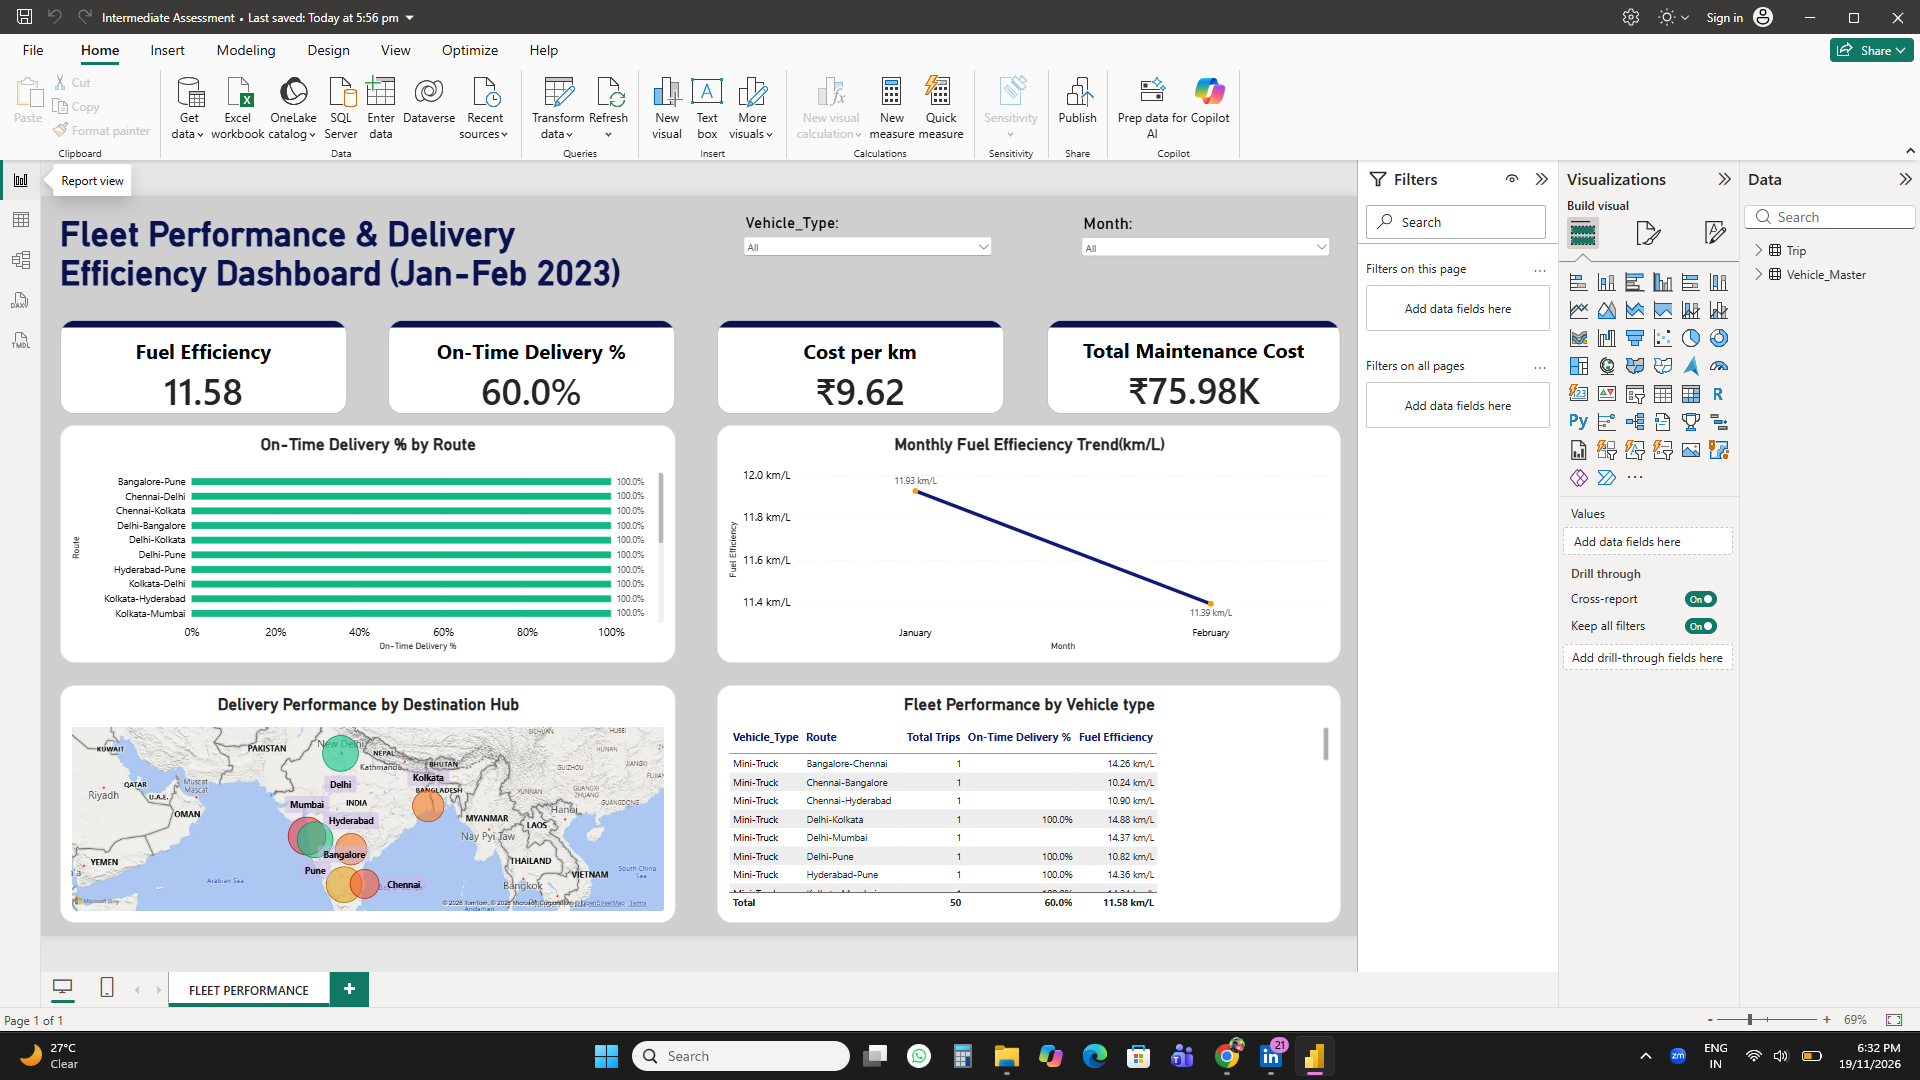

The dashboard page shown, as its layout file describes it:
{"tool":"powerbi","page":{"name":"FLEET PERFORMANCE","canvas":[1920,1080],"ordinal":0},"visuals":[{"type":"textbox","title":"Fleet Performance & Delivery Efficiency Dashboard (Jan-Feb 2023)","box":[27.7,26.3,1040.2,118.2],"z":0},{"type":"slicer","fields":{"Values":["Vehicle_Master.Vehicle_Type"]},"box":[1019.8,26.3,373.5,94.8],"z":1},{"type":"slicer","fields":{"Values":["Trip.Delivery_Date.Variation.Date Hierarchy.Month"]},"box":[1512.9,26.3,373.5,118.2],"z":2},{"type":"cardVisual","fields":{"Data":["Trip.Fuel Efficiency"]},"box":[27.7,180.9,418.7,137.1],"z":3},{"type":"cardVisual","fields":{"Data":["Trip.On-Time Delivery %"]},"box":[506.7,180.9,418.7,137.1],"z":4},{"type":"cardVisual","fields":{"Data":["Trip.Cost per km"]},"box":[986.9,180.9,418.7,137.1],"z":5},{"type":"cardVisual","fields":{"Data":["Trip.Total Maintenance Cost"]},"box":[1468.4,180.9,428.3,137],"z":6},{"type":"clusteredBarChart","title":"On-Time Delivery % by Route","fields":{"Category":["Trip.Route"],"Y":["Trip.On-Time Delivery %"]},"box":[27.9,333.8,897.8,347.1],"z":7},{"type":"tableEx","title":"Fleet Performance by Vehicle type","fields":{"Values":["Vehicle_Master.Vehicle_Type","Trip.Route","Trip.Total Trips","Trip.On-Time Delivery %","Trip.Fuel Efficiency"]},"box":[986.9,712.9,909.8,347.1],"z":8},{"type":"map","title":" Delivery Performance by Destination Hub","fields":{"Category":["Trip.Destination"],"Size":["Trip.Total Trips"]},"box":[27.9,712.9,897.8,347.1],"z":9},{"type":"lineChart","title":"Monthly Fuel Effieciency Trend(km/L)","fields":{"Category":["Trip.Delivery_Date.Variation.Date Hierarchy.Month"],"Y":["Trip.Fuel Efficiency"]},"box":[986.9,333.8,909.8,347.1],"z":10}]}

Visuals, with their boxes on the page's 1920x1080 design canvas (x1, y1, x2, y2). These are canvas units, not pixel positions in the 1920x1080 screenshot, which may show the page scaled, cropped or inside an application window:
"Fleet Performance & Delivery Efficiency Dashboard (Jan-Feb 2023)" textbox: {"x1": 28, "y1": 26, "x2": 1068, "y2": 144}
slicer - Vehicle_Master.Vehicle_Type: {"x1": 1020, "y1": 26, "x2": 1393, "y2": 121}
slicer - Trip.Delivery_Date.Variation.Date Hierarchy.Month: {"x1": 1513, "y1": 26, "x2": 1886, "y2": 144}
cardVisual - Trip.Fuel Efficiency: {"x1": 28, "y1": 181, "x2": 446, "y2": 318}
cardVisual - Trip.On-Time Delivery %: {"x1": 507, "y1": 181, "x2": 925, "y2": 318}
cardVisual - Trip.Cost per km: {"x1": 987, "y1": 181, "x2": 1406, "y2": 318}
cardVisual - Trip.Total Maintenance Cost: {"x1": 1468, "y1": 181, "x2": 1897, "y2": 318}
"On-Time Delivery % by Route" clusteredBarChart: {"x1": 28, "y1": 334, "x2": 926, "y2": 681}
"Fleet Performance by Vehicle type" tableEx: {"x1": 987, "y1": 713, "x2": 1897, "y2": 1060}
" Delivery Performance by Destination Hub" map: {"x1": 28, "y1": 713, "x2": 926, "y2": 1060}
"Monthly Fuel Effieciency Trend(km/L)" lineChart: {"x1": 987, "y1": 334, "x2": 1897, "y2": 681}
